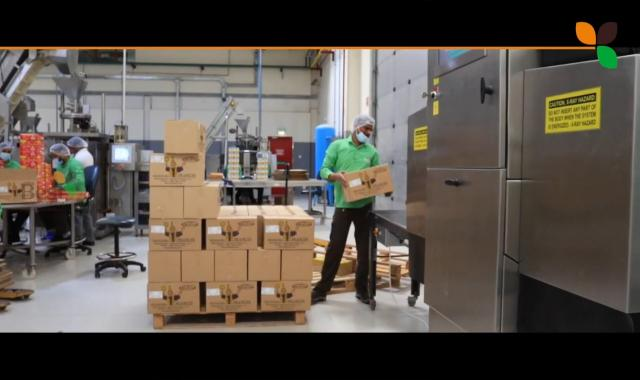hairnet: (351, 114, 378, 132), (48, 143, 72, 160), (67, 134, 91, 150)
